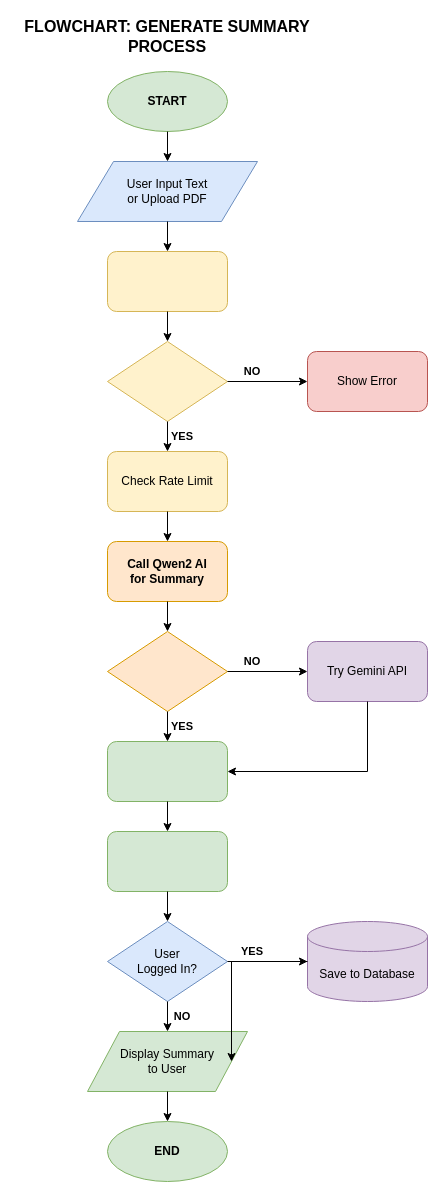
Image size: 445x1199. Some labels were removed from this diagram. Each missing label, with the box of its shape:
Calculate Compression Ratio & Stats: (106, 830, 228, 892)
Parse Summary & Key Points: (106, 740, 228, 802)
Qwen2 Success?: (106, 630, 228, 712)
Valid Input?: (106, 340, 228, 422)
Validate Input (min 50 chars): (106, 250, 228, 312)
